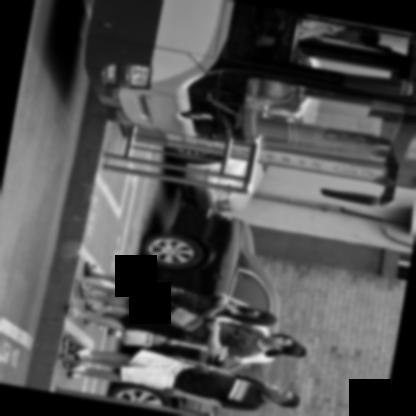handbag: (163, 307, 209, 340), (117, 329, 166, 346)
